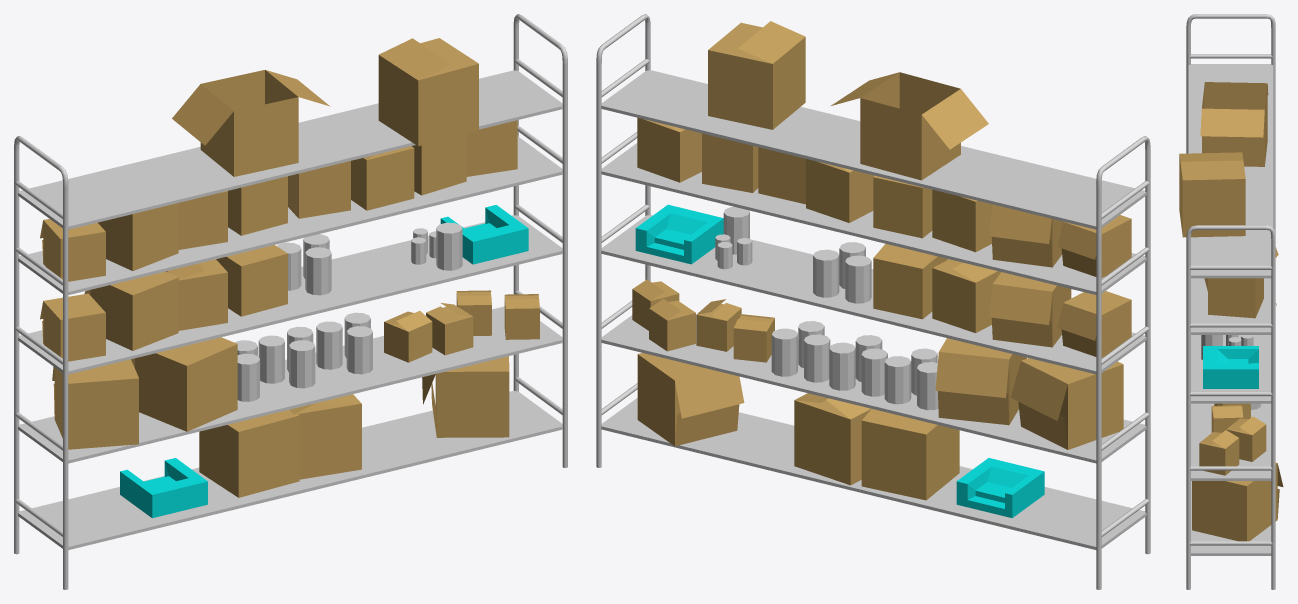
Rendered from Shelf.fbx.
The picture shows the model from 3 angles, left to right: view 1: azimuth 30°, elevation 25°; view 2: azimuth 150°, elevation 25°; view 3: azimuth 270°, elevation 25°; orthographic projection. The views are drawn at different scales.
Visible parts, largest first — view 1: pCube210; view 2: pCube210; view 3: pCube210.
Boxes of the visible parts, left/top/right/bottom form: pCube210: left=14, top=14, right=567, bottom=589; pCube210: left=596, top=14, right=1150, bottom=589; pCube210: left=1179, top=14, right=1283, bottom=589.
Size of the model in its own units: 2.81 by 2.32 by 0.5797.
